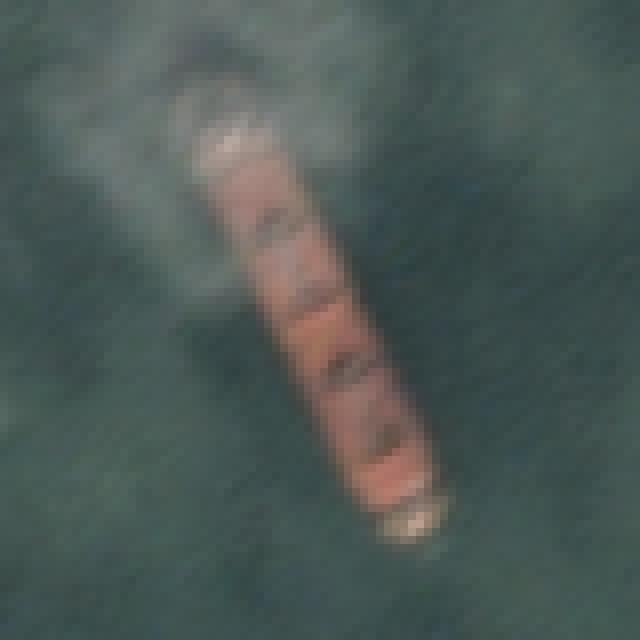ship: (158, 56, 478, 560)
